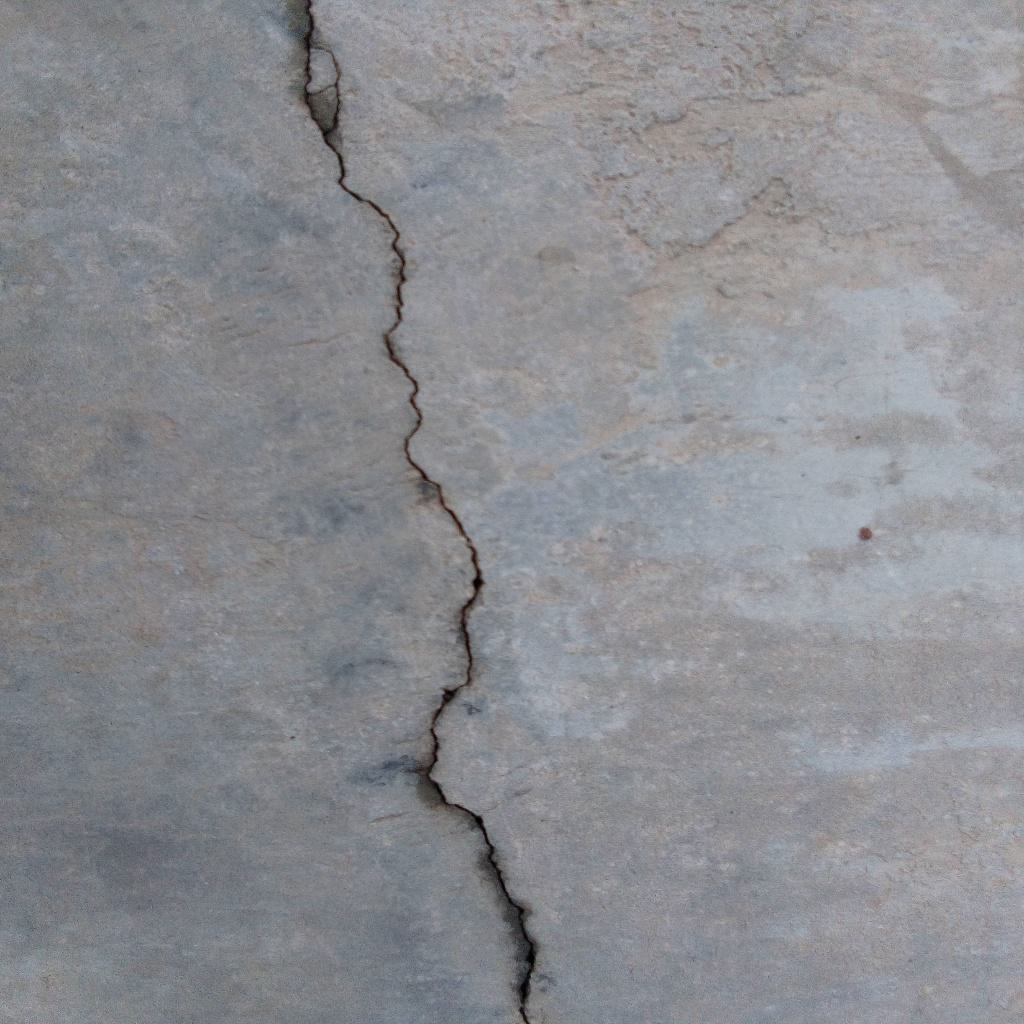Crack: (298, 1, 537, 1024)
